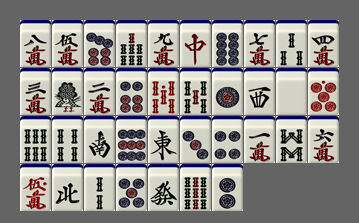0m: (20, 164, 51, 211)
0p: (308, 68, 339, 115)
0s: (148, 68, 179, 115)
1m: (244, 116, 275, 163)
1p: (212, 68, 243, 115)
1s: (52, 68, 83, 115)
1z: (148, 116, 179, 163)
2m: (84, 68, 115, 115)
2p: (212, 164, 243, 211)
2s: (84, 164, 115, 211)
2z: (84, 116, 115, 163)
3m: (20, 68, 51, 115)
3p: (180, 116, 211, 163)
3s: (276, 20, 307, 67)
3z: (244, 68, 275, 115)
4m: (308, 20, 339, 67)
4p: (212, 116, 243, 163)
4s: (52, 116, 83, 163)
4z: (52, 164, 83, 211)
5m: (52, 20, 83, 67)
5p: (116, 164, 147, 211)
5s: (180, 68, 211, 115)
5z: (276, 68, 307, 115)
6m: (308, 116, 339, 163)
6p: (116, 68, 147, 115)
6s: (20, 116, 51, 163)
6z: (148, 164, 179, 211)
7m: (244, 20, 275, 67)
7p: (84, 20, 115, 67)
7s: (116, 20, 147, 67)
7z: (180, 20, 211, 67)
8m: (20, 20, 51, 67)
8p: (212, 20, 243, 67)
8s: (276, 116, 307, 163)
9m: (148, 20, 179, 67)
9p: (116, 116, 147, 163)
9s: (180, 164, 211, 211)
